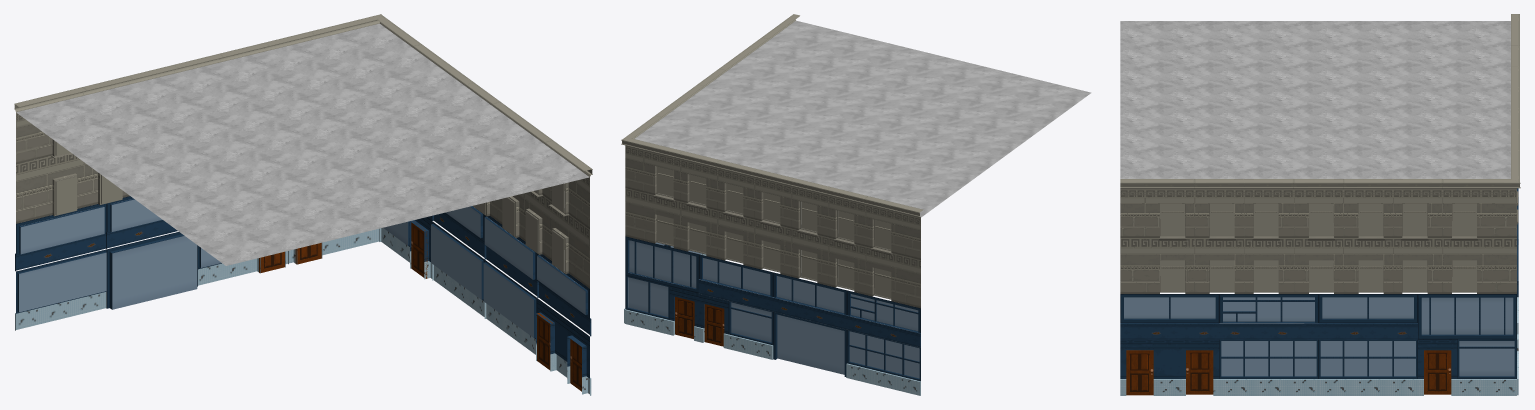
File: Block_01.fbx
The picture shows the model from 3 angles, left to right: view 1: azimuth 30°, elevation 25°; view 2: azimuth 150°, elevation 25°; view 3: azimuth 270°, elevation 25°; orthographic projection. The views are drawn at different scales.
Visible parts, largest first — view 1: Store_Front_Shutter1, Store_Front_Window4, Ground_Big6, Ground_Big1, Ground_Big4, Ground_Big5, Ground_Big11, Ground_Big12, Ground_Big2, Ground_Big7, Ground_Big10, Ground_Big14 (+29 smaller); view 2: Store_Front_Window4, Store_Front_Shutter1, Ground_Big13, Ground_Big3, Ground_Big6, Ground_Big7, Ground_Big4, Ground_Big9, Ground_Big15, Ground_Big2, Ground_Big5, Ground_Big10 (+30 smaller); view 3: Store_Front_Window2, Store_Front_Window1, Store_Upper_Window_B2, Store_Upper_Window_B1, Store_Front_Door_Left1, Store_Upper_Window_D1, Store_Upper_Window_C1, Ground_Big5, Ground_Big6, Ground_Big7, Ground_Big9, Ground_Big10 (+32 smaller).
Part boxes in pixels (x1=…): Store_Front_Shutter1: x1=107, y1=232, x2=197, y2=309; Store_Front_Window4: x1=15, y1=249, x2=106, y2=330; Ground_Big6: x1=303, y1=122, x2=445, y2=183; Ground_Big1: x1=289, y1=23, x2=431, y2=83; Ground_Big4: x1=446, y1=139, x2=589, y2=199; Ground_Big5: x1=356, y1=161, x2=498, y2=221; Ground_Big11: x1=159, y1=106, x2=302, y2=166; Ground_Big12: x1=107, y1=68, x2=249, y2=128; Ground_Big2: x1=341, y1=62, x2=484, y2=122; Ground_Big7: x1=251, y1=84, x2=393, y2=144; Ground_Big10: x1=212, y1=145, x2=354, y2=205; Ground_Big14: x1=121, y1=167, x2=263, y2=227; Store_Front_Window4: x1=846, y1=330, x2=920, y2=395; Store_Front_Shutter1: x1=773, y1=312, x2=846, y2=376; Ground_Big13: x1=975, y1=75, x2=1091, y2=123; Ground_Big3: x1=711, y1=52, x2=826, y2=100; Ground_Big6: x1=785, y1=70, x2=900, y2=118; Ground_Big7: x1=742, y1=101, x2=858, y2=150; Ground_Big4: x1=753, y1=20, x2=869, y2=69; Ground_Big9: x1=901, y1=56, x2=1017, y2=105; Ground_Big15: x1=890, y1=137, x2=1005, y2=186; Ground_Big2: x1=668, y1=83, x2=784, y2=132; Ground_Big5: x1=827, y1=38, x2=943, y2=87; Ground_Big10: x1=859, y1=88, x2=974, y2=136; Store_Front_Window2: x1=1219, y1=339, x2=1318, y2=395; Store_Front_Window1: x1=1318, y1=339, x2=1417, y2=395; Store_Upper_Window_B2: x1=1120, y1=294, x2=1219, y2=339; Store_Upper_Window_B1: x1=1318, y1=294, x2=1417, y2=339; Store_Front_Door_Left1: x1=1418, y1=339, x2=1516, y2=395; Store_Upper_Window_D1: x1=1219, y1=294, x2=1318, y2=339; Store_Upper_Window_C1: x1=1418, y1=294, x2=1516, y2=338; Ground_Big5: x1=1120, y1=105, x2=1219, y2=146; Ground_Big6: x1=1219, y1=105, x2=1318, y2=146; Ground_Big7: x1=1318, y1=105, x2=1417, y2=146; Ground_Big9: x1=1120, y1=63, x2=1219, y2=104; Ground_Big10: x1=1219, y1=63, x2=1318, y2=104.
Size of what is drawn, in the model's own units: 3230 by 1900 by 3230.
6 materials, 5 textured.
